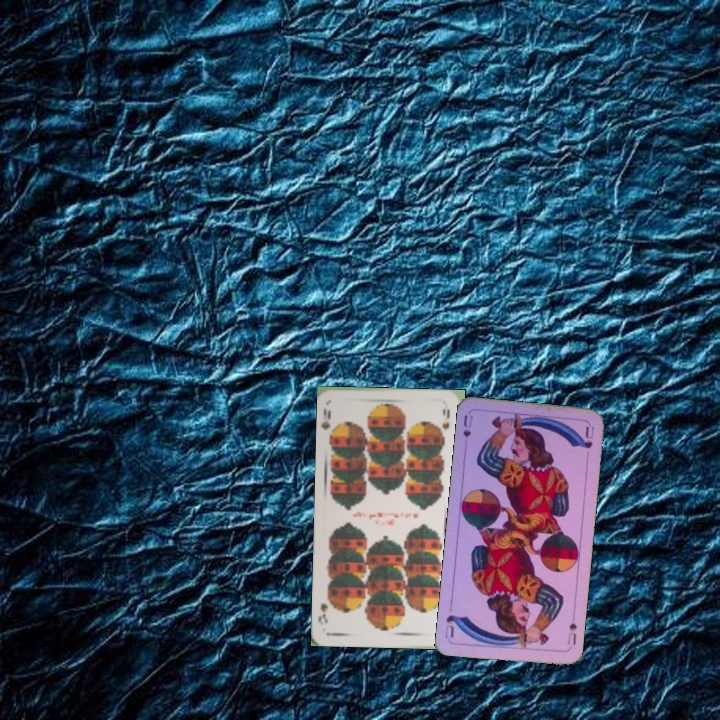S9: (319, 404, 339, 442)
SU: (459, 411, 475, 452), (563, 619, 579, 651)
